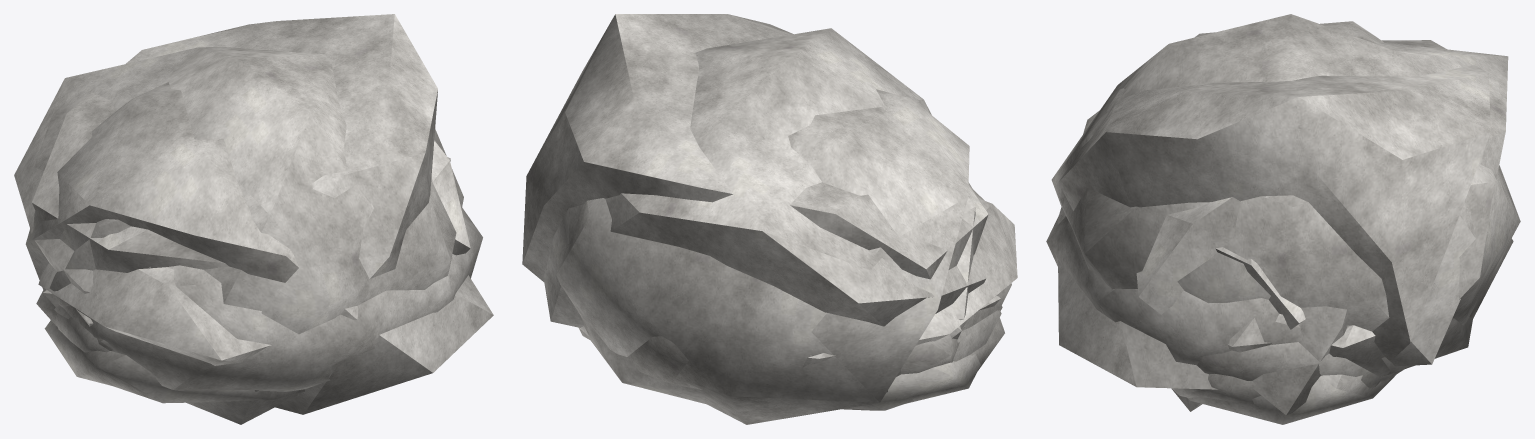
File: rocks_lod1_web.glb
3 views of the same model, side by side, from view 1: azimuth 30°, elevation 25°; view 2: azimuth 150°, elevation 25°; view 3: azimuth 270°, elevation 25° (orthographic). The views are drawn at different scales.
Visible parts, largest first — view 1: Rock_05, Rock_06, Rock_07, Pebble_05, Rock_01, Pebble_06, Rock_00, Rock_04, Pebble_07, Pebble_04; view 2: Rock_06, Rock_05, Rock_07, Rock_01, Pebble_04, Pebble_05, Pebble_00, Rock_04, Pebble_06, Pebble_07; view 3: Rock_07, Rock_05, Rock_06, Pebble_05, Rock_00, Pebble_01, Pebble_04, Rock_01, Rock_04, Pebble_06, Rock_03.
Boxes of the visible parts, <box> form: Rock_05: <box>14,47,463,424</box>; Rock_06: <box>25,82,493,414</box>; Rock_07: <box>32,14,437,278</box>; Pebble_05: <box>63,207,482,391</box>; Rock_01: <box>38,263,271,365</box>; Pebble_06: <box>71,342,305,403</box>; Rock_00: <box>147,140,470,268</box>; Rock_04: <box>49,157,450,291</box>; Pebble_07: <box>55,313,109,352</box>; Pebble_04: <box>44,320,110,385</box>; Rock_06: <box>556,89,969,424</box>; Rock_05: <box>543,28,986,327</box>; Rock_07: <box>522,14,988,281</box>; Rock_01: <box>580,199,1017,403</box>; Pebble_04: <box>579,328,980,410</box>; Pebble_05: <box>579,190,1011,392</box>; Pebble_00: <box>901,334,959,374</box>; Rock_04: <box>952,197,975,319</box>; Pebble_06: <box>848,317,1004,410</box>; Pebble_07: <box>953,310,1001,361</box>; Rock_07: <box>1058,40,1490,361</box>; Rock_05: <box>1051,14,1508,366</box>; Rock_06: <box>1057,21,1520,389</box>; Pebble_05: <box>1046,216,1513,373</box>; Rock_00: <box>1136,197,1347,415</box>; Pebble_01: <box>1197,342,1381,388</box>; Pebble_04: <box>1187,374,1395,424</box>; Rock_01: <box>1329,317,1472,376</box>; Rock_04: <box>1171,247,1305,411</box>; Pebble_06: <box>1172,374,1261,405</box>; Rock_03: <box>1227,318,1271,352</box>.
Size of the model in its own units: 1 by 0.7781 by 0.9701.
Materials: 1 (1 with a texture image).
